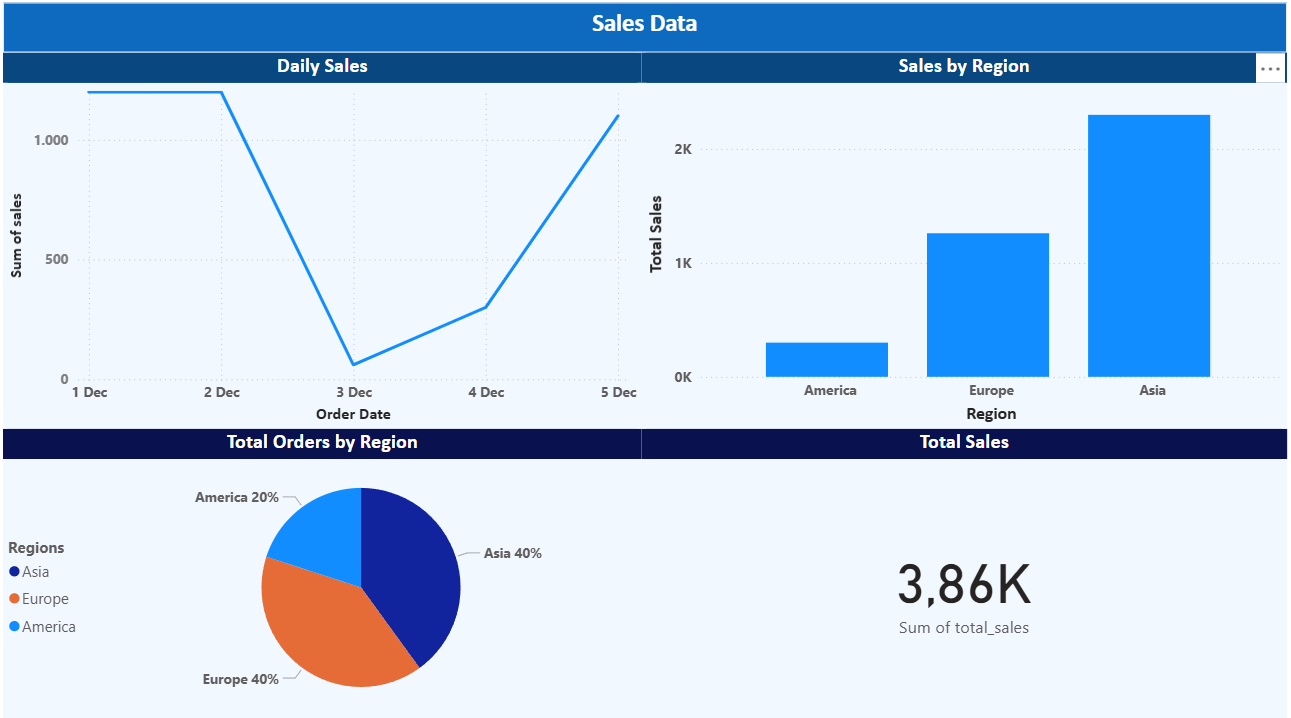

Layout of this report page (visuals, bound fields, positions):
{"tool":"powerbi","page":{"name":"Page 1","canvas":[1280,720],"ordinal":0},"visuals":[{"type":"lineChart","title":"Daily Sales","fields":{"Y":["Sum(daily_sales.daily_sales)"],"Category":["daily_sales.order_date.Variation.Date Hierarchy.Year","daily_sales.order_date.Variation.Date Hierarchy.Quarter","daily_sales.order_date.Variation.Date Hierarchy.Month","daily_sales.order_date.Variation.Date Hierarchy.Day"]},"box":[14.7,66,624.9,368.1],"z":0},{"type":"columnChart","title":"Sales by Region","fields":{"Category":["sales_by_region.region"],"Y":["Sum(sales_by_region.total_sales)"]},"box":[639.5,66,631,368.1],"z":1000},{"type":"pieChart","title":"Total Orders by Region","fields":{"Category":["sales_by_region.region"],"Y":["Sum(sales_by_region.num_orders)"]},"box":[14.7,434.1,624.9,286.1],"z":2000},{"type":"textbox","box":[14.7,17.1,1255.8,48.9],"z":4000},{"type":"card","title":"Total Sales","fields":{"Values":["Sum(sales_by_region.total_sales)"]},"box":[639.5,434.1,631,286.1],"z":4001}]}

Visuals, with their boxes in screenshot pixels (x1, y1, x2, y2), scaled from the page's 1280x720 canvas onto the 1291x718 screenshot:
"Daily Sales" lineChart: <box>15,66,645,433</box>
"Sales by Region" columnChart: <box>645,66,1281,433</box>
"Total Orders by Region" pieChart: <box>15,433,645,717</box>
textbox: <box>15,17,1281,66</box>
"Total Sales" card: <box>645,433,1281,717</box>
